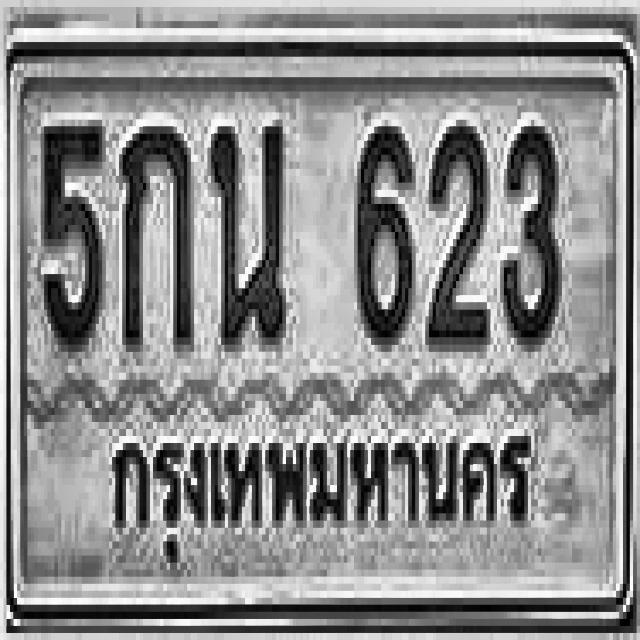license-plate: (13, 45, 629, 624)
